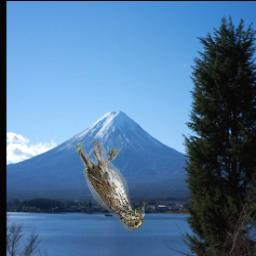Sparrow: (73, 142, 145, 231)
